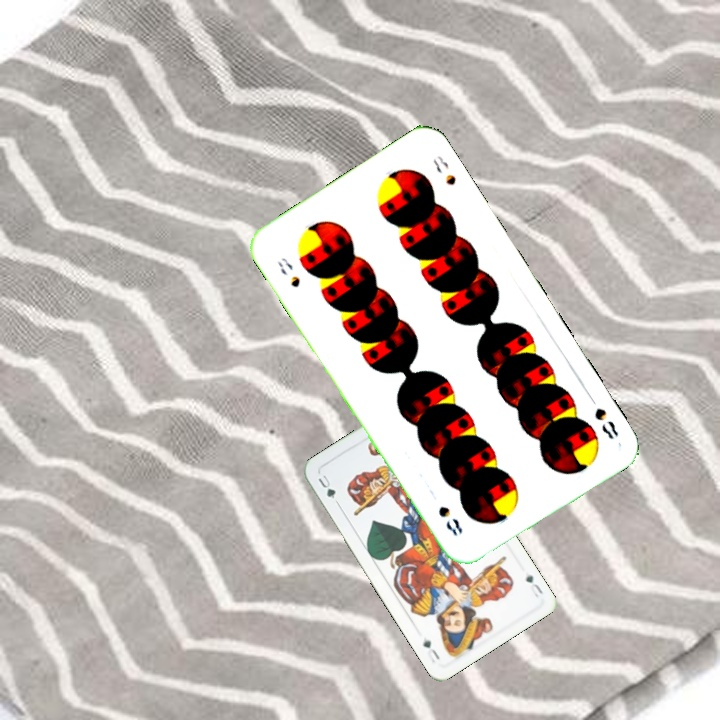GU: (314, 471, 341, 507), (521, 570, 545, 600)
S8: (584, 390, 621, 442), (273, 253, 303, 291)
